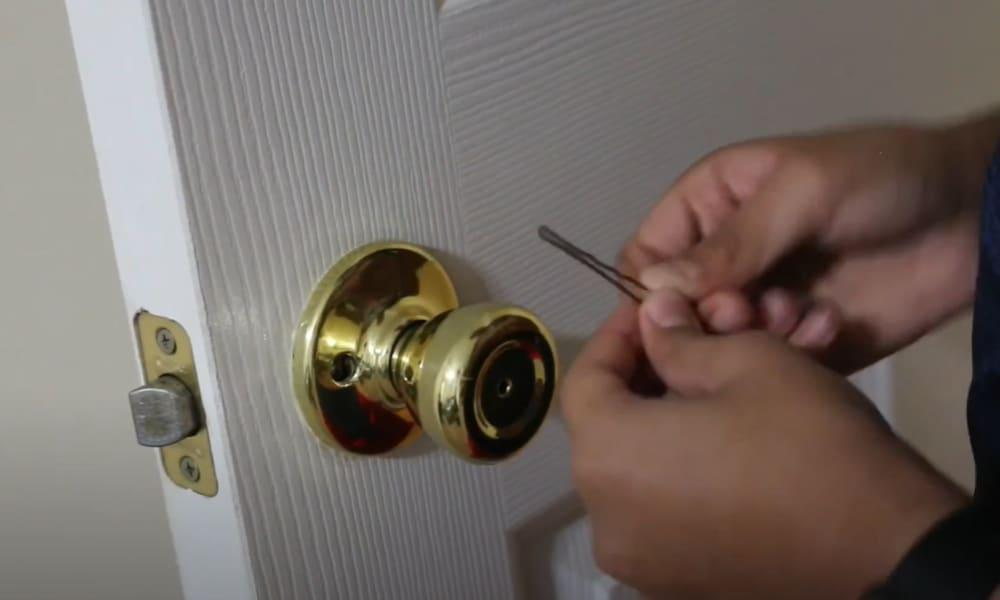doorhandle: (283, 240, 577, 483)
